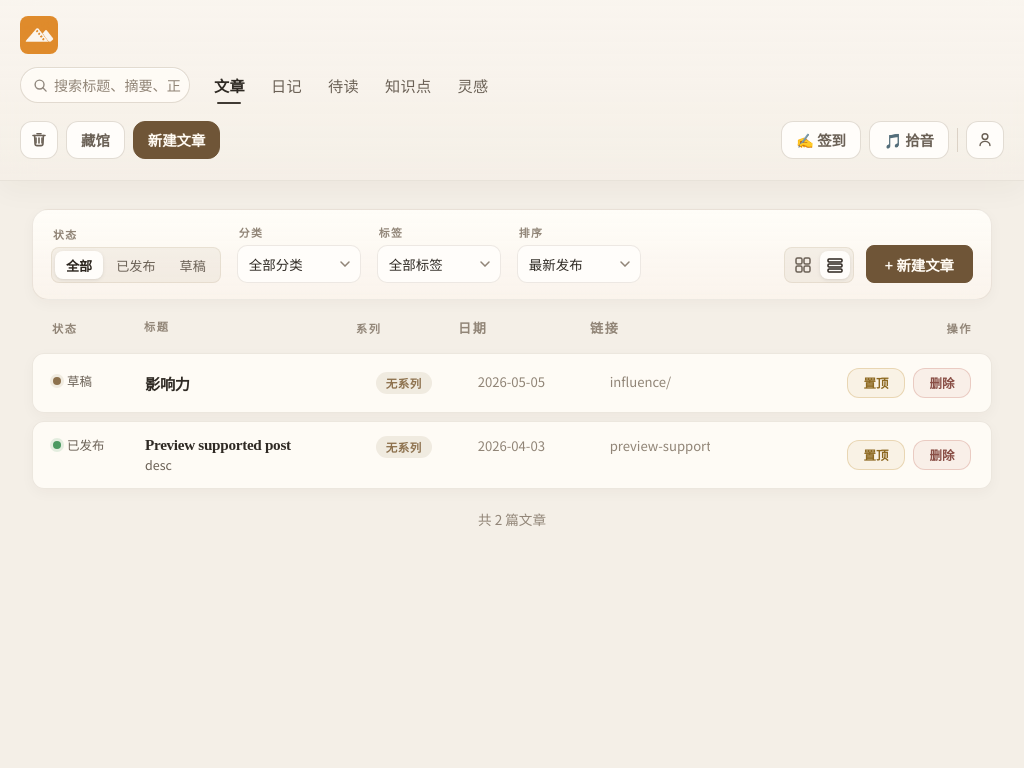
App preview mode › returns to the original preview after opening a topic node from a wiki link
Expected: the text "Preview supported post" is shown, [145, 436, 291, 454]
Click the button "Preview supported post": (86, 445) [53, 436, 831, 474]
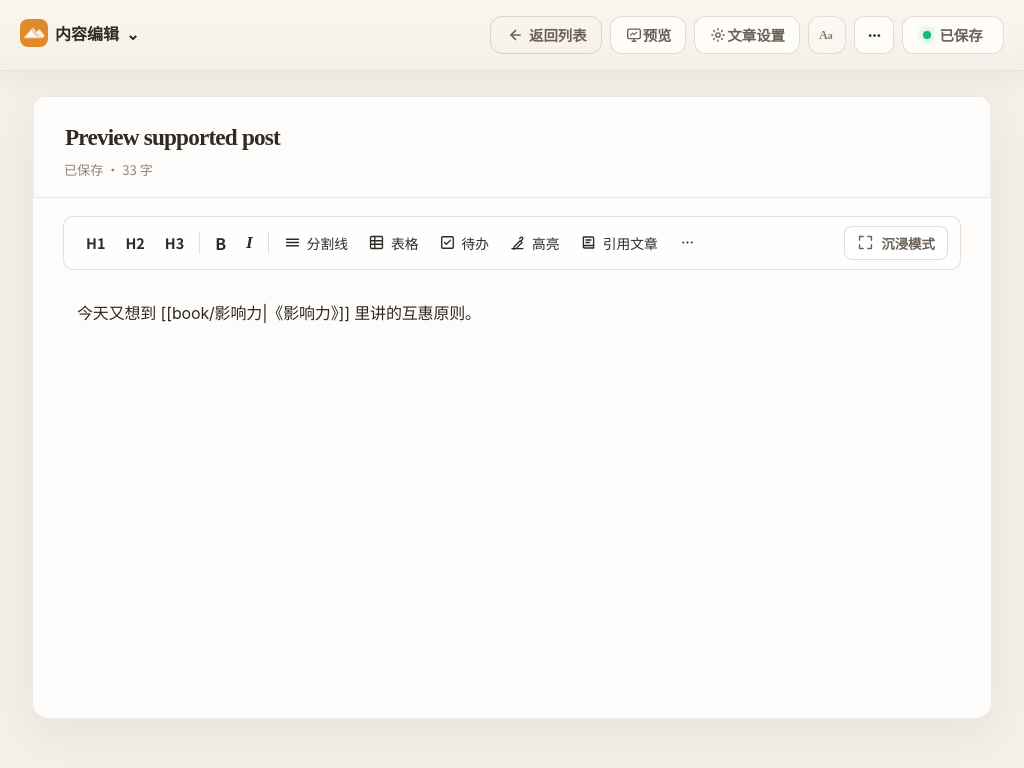
Expected: the text box named "Markdown 编辑器" is shown, [63, 270, 961, 688]
Click the button "预览": (648, 35) [610, 16, 686, 54]
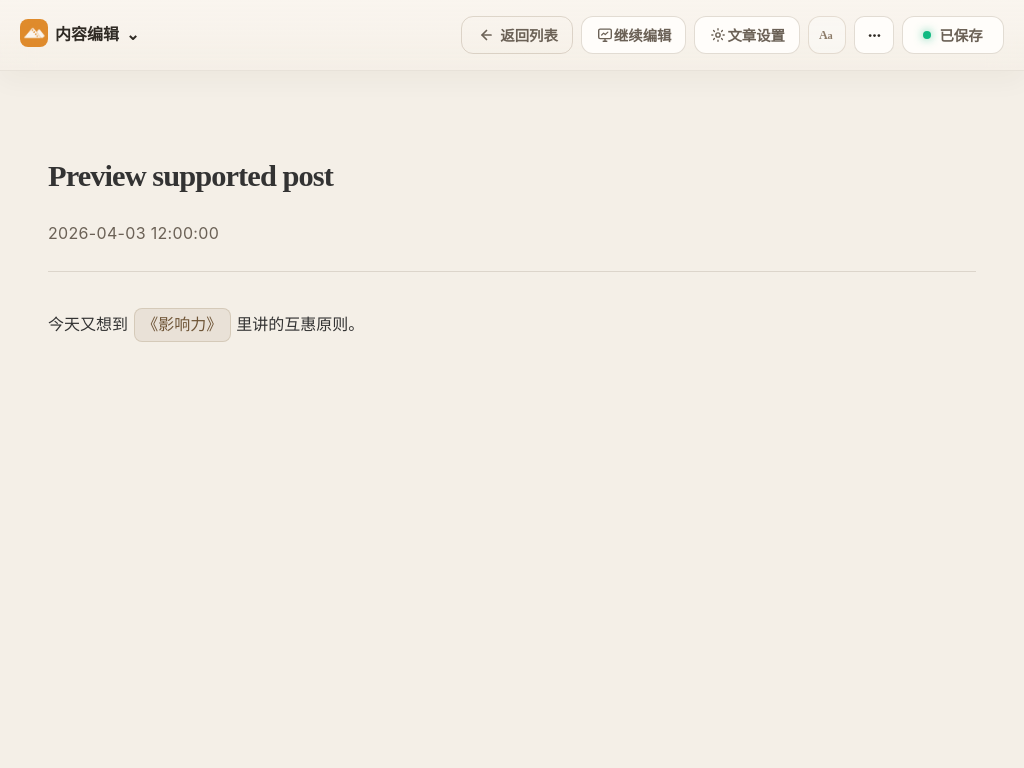
Click the button "《影响力》": (182, 325) [134, 308, 230, 342]
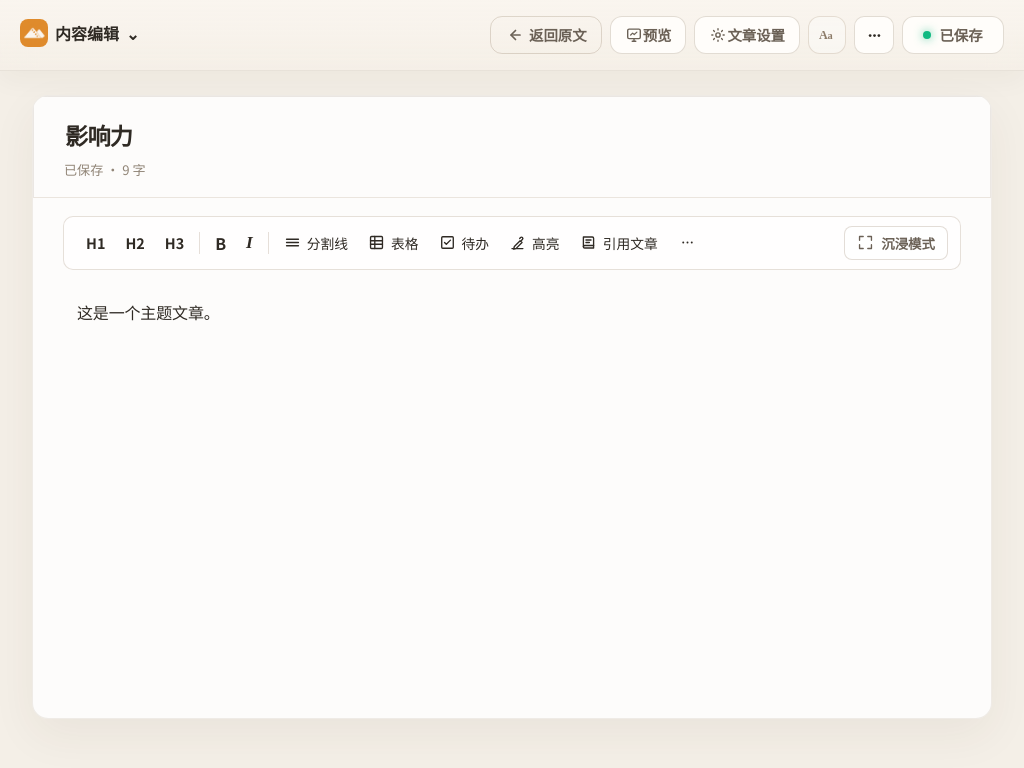
Expected: the field showing "影响力" is shown, [64, 123, 960, 153]
Expected: the button with aria-label "← 返回原文" is shown
Click the button with aria-label "← 返回原文": (546, 35) [490, 16, 602, 54]
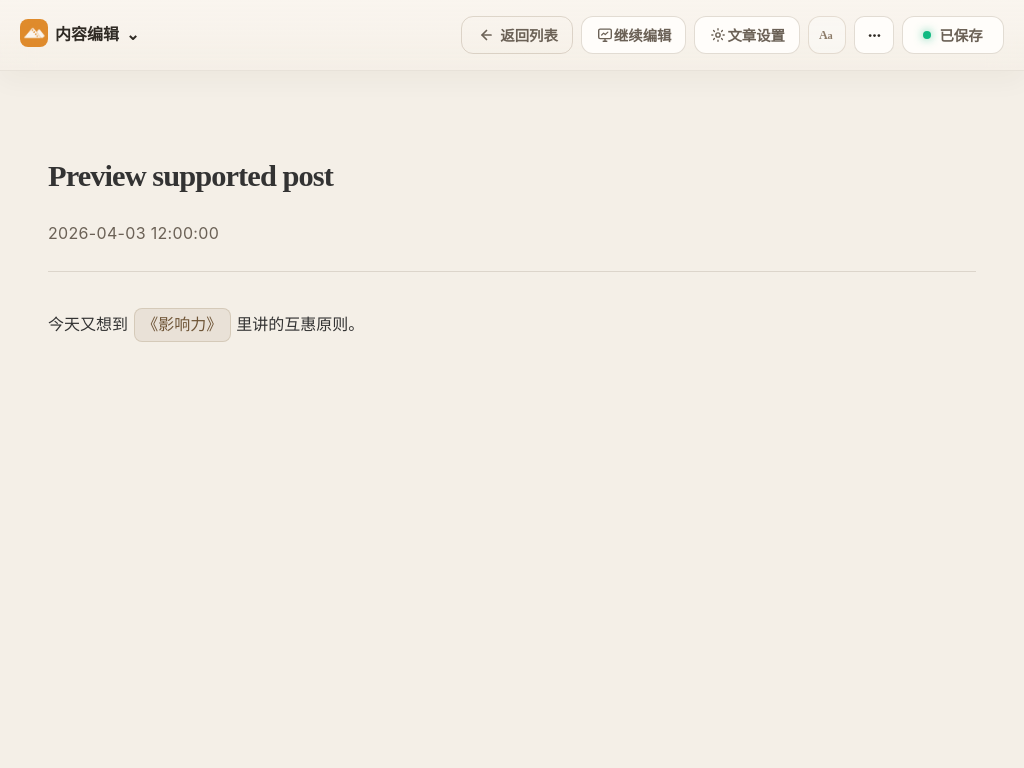
Expected: the heading "Preview supported post" is shown, [48, 159, 333, 193]
Expected: the button "继续编辑" is shown, [581, 16, 686, 54]
